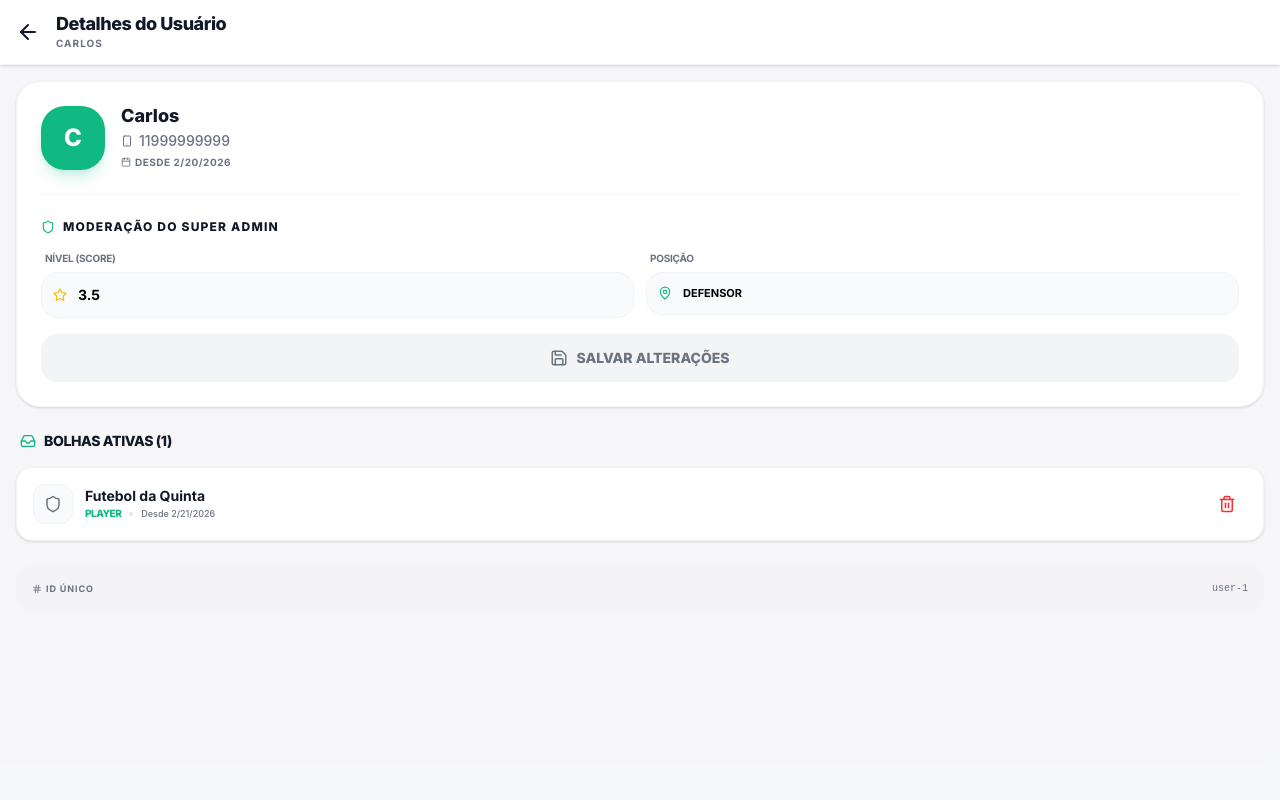
Test: UserDetailsView Component › enables the SAVE button only when changes are made (SYSTEM level)
This screenshot has width=1280, height=800.
Check: the text "Carlos" is shown, box [56,37,103,49]
Check: the button "SALVAR ALTERAÇÕES" is disabled, box [41,334,1239,382]
Replace the text in the number field with "4.5": (338, 295) [41,272,634,318]
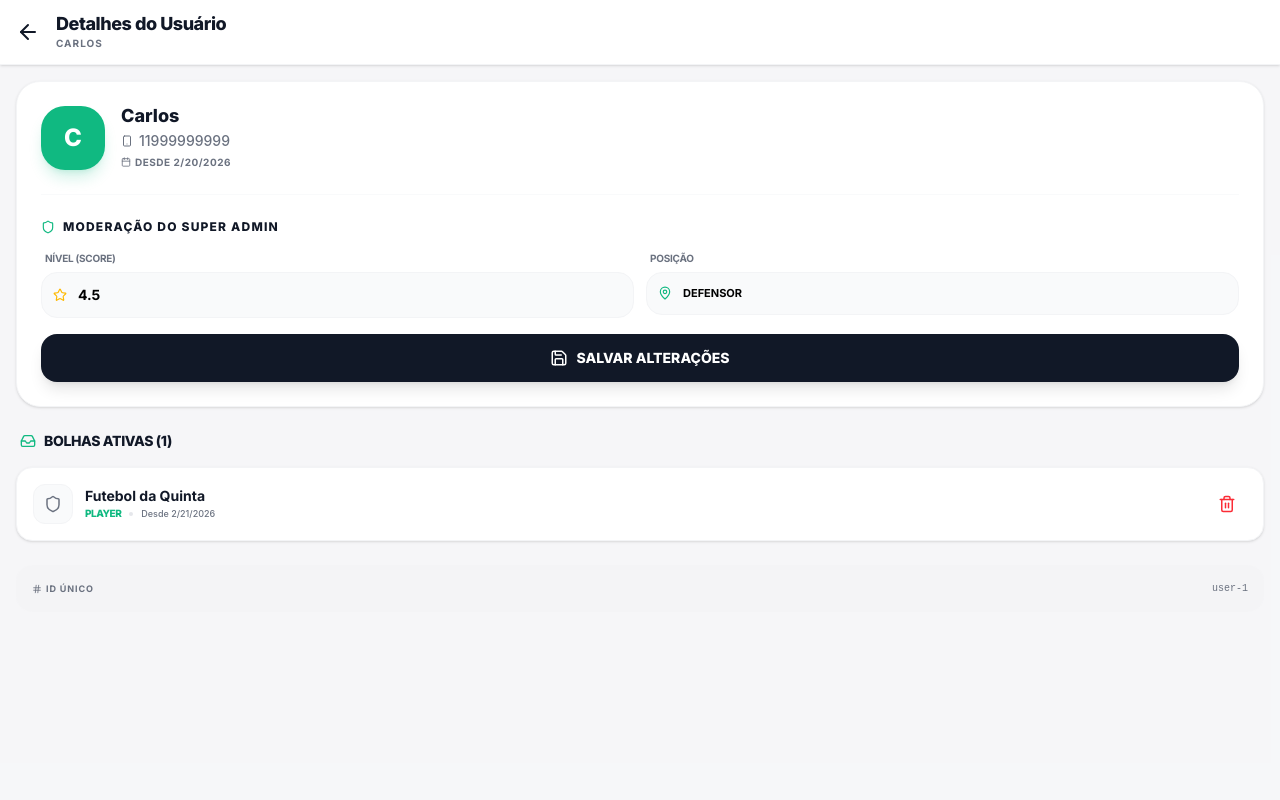
Check: the button "SALVAR ALTERAÇÕES" is enabled, box [41,334,1239,382]
Revert to original
Replace the text in the number field with "3.5": (338, 295) [41,272,634,318]
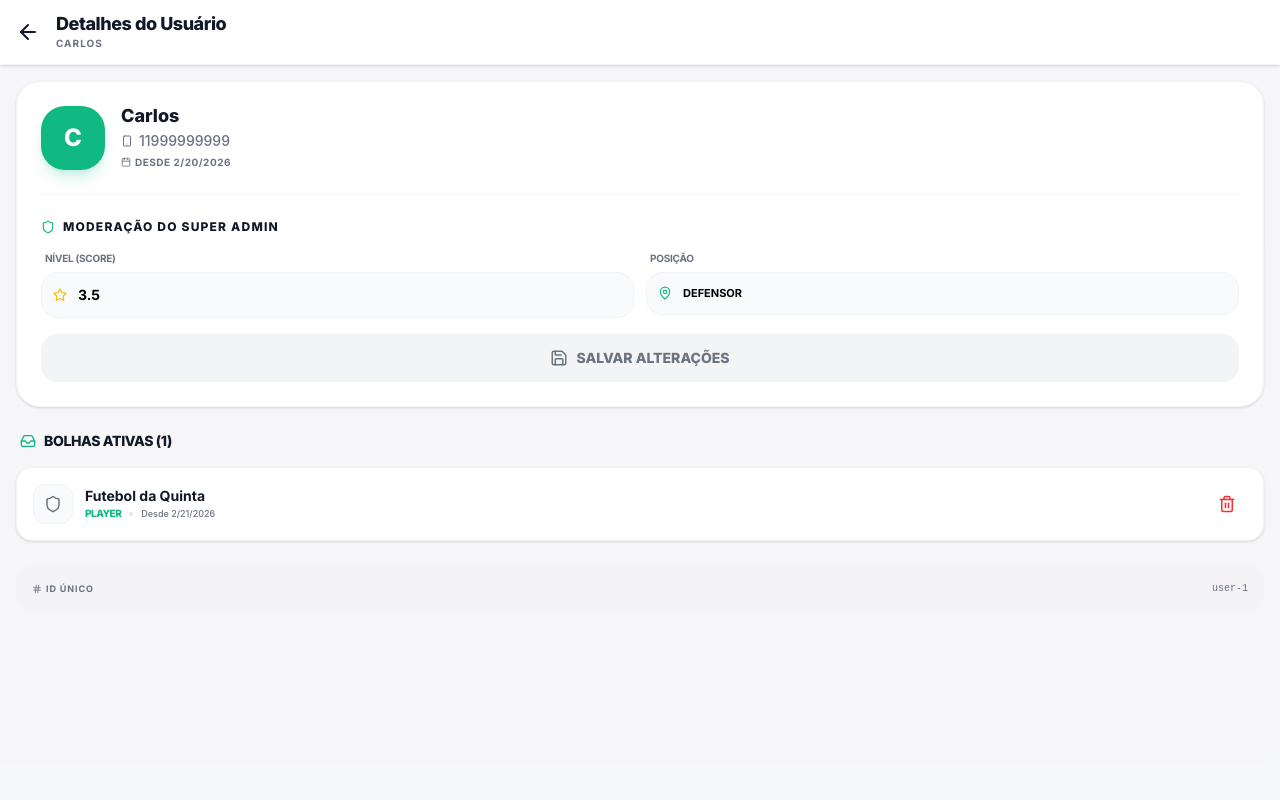
Check: the button "SALVAR ALTERAÇÕES" is disabled, box [41,334,1239,382]
